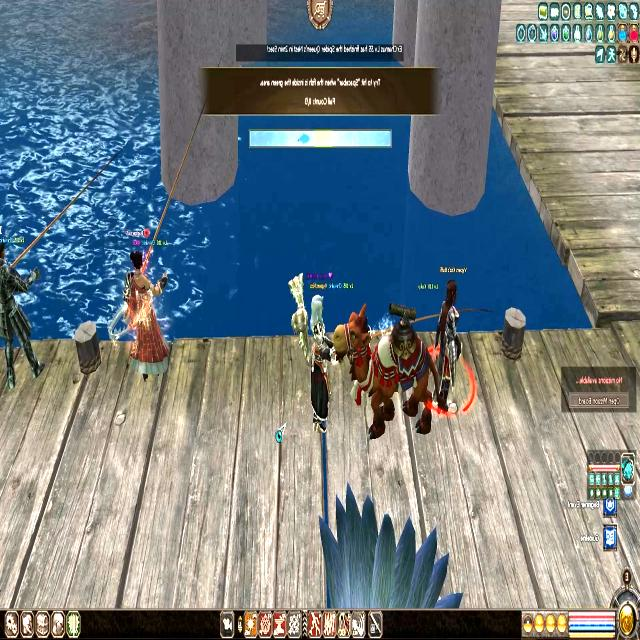fishes: (297, 131, 310, 146)
